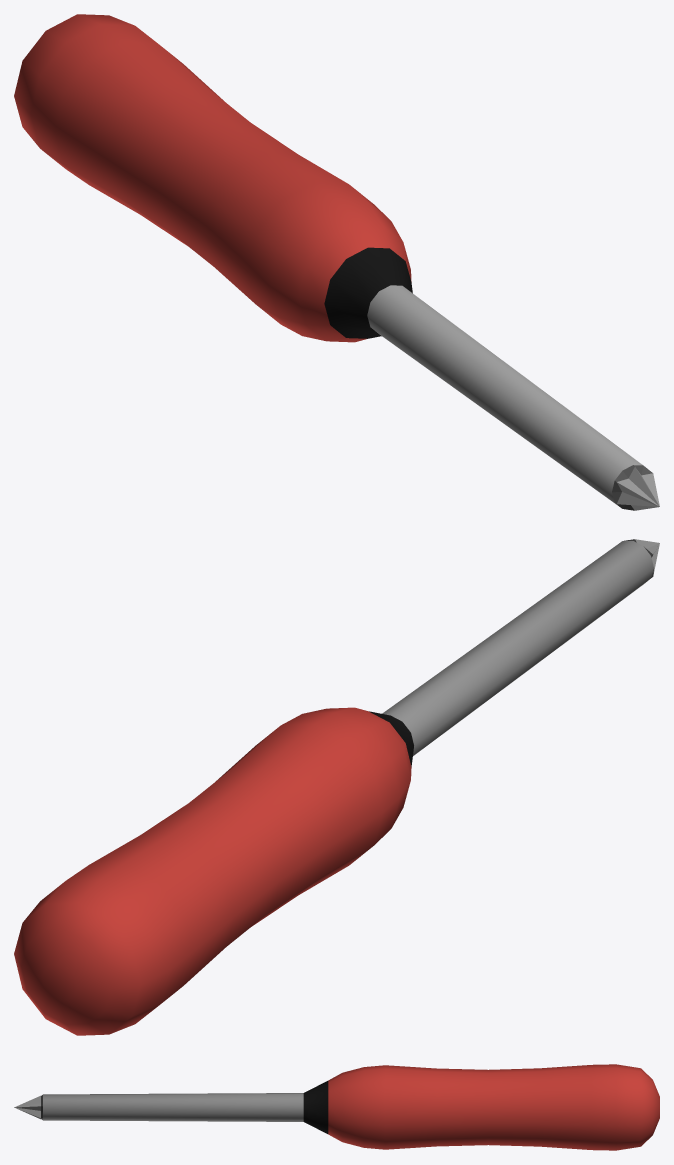
Rendered from Screwdriver1.fbx.
3 renders of one model, top to bottom at view 1: azimuth 30°, elevation 25°; view 2: azimuth 150°, elevation 25°; view 3: azimuth 270°, elevation 25°, orthographic. The views are drawn at different scales.
Visible parts, largest first — view 1: Cube; view 2: Cube; view 3: Cube.
Part boxes in pixels (x1,y1,x2,y2): Cube: (14,14,659,510); Cube: (14,539,659,1035); Cube: (14,1064,659,1150).
Size of the model in its own units: 185 by 185 by 1383.
